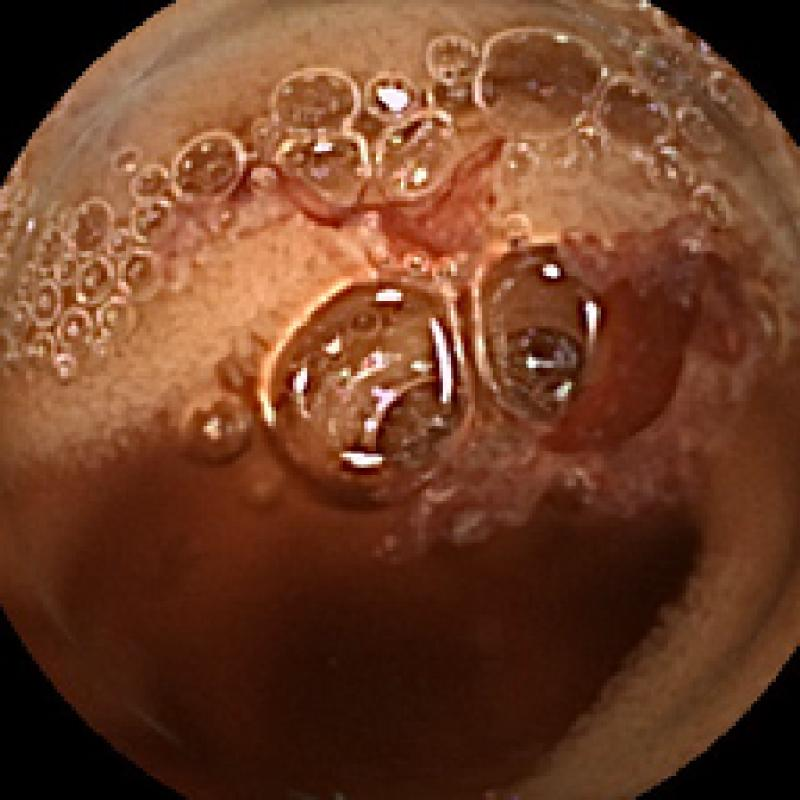bleeding: (542, 219, 762, 443), (243, 128, 511, 268)
